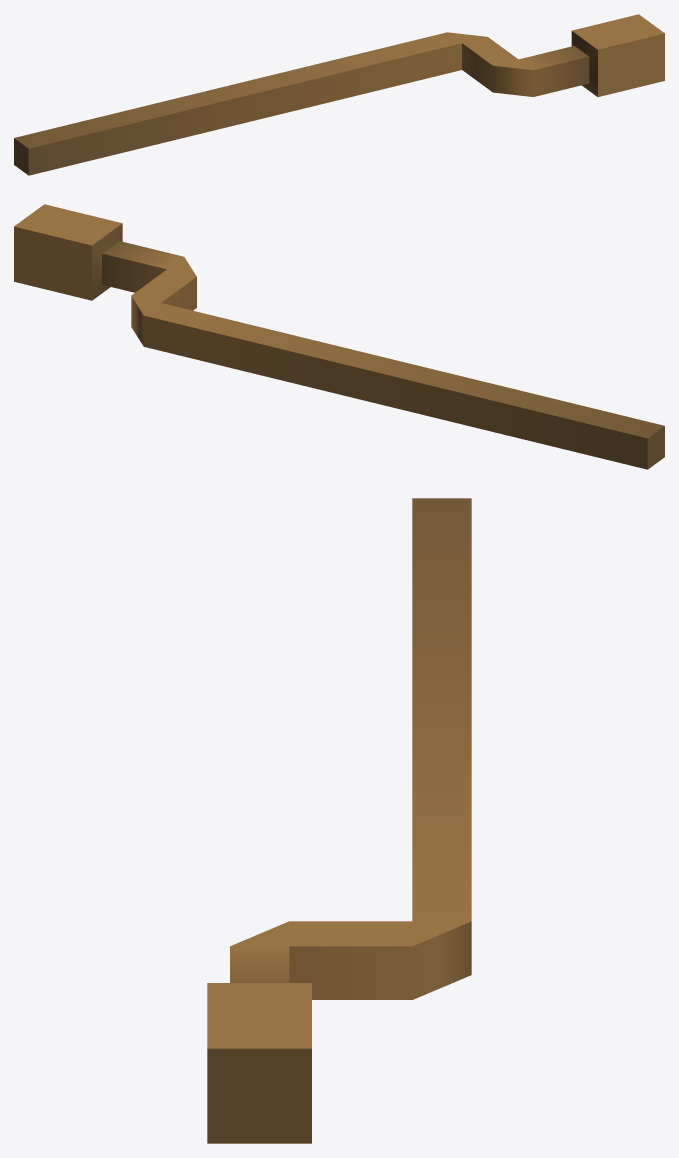
The model's file is human-music-music-box-crank_v1.glb.
3 renders of one model, top to bottom at view 1: azimuth 30°, elevation 25°; view 2: azimuth 150°, elevation 25°; view 3: azimuth 270°, elevation 25°, orthographic. The views are drawn at different scales.
Visible parts, largest first — view 1: Music Box Crank; view 2: Music Box Crank; view 3: Music Box Crank.
Boxes of the visible parts, left/top/right/bottom form: Music Box Crank: left=14, top=14, right=664, bottom=175; Music Box Crank: left=14, top=204, right=664, bottom=469; Music Box Crank: left=207, top=498, right=471, bottom=1143.
Bounding box in the file's own units: 0.08 × 0.0062 × 0.0157.
